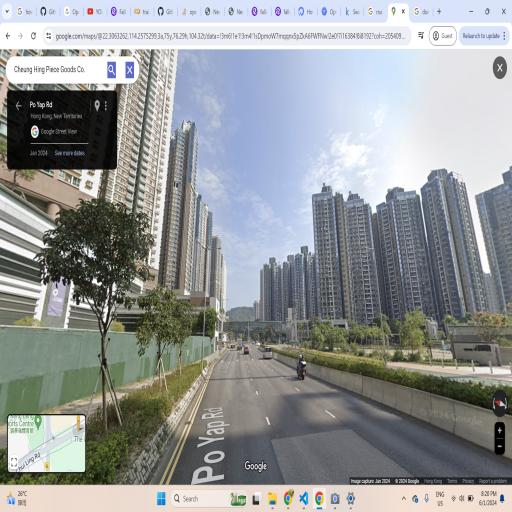Roads: (179, 352, 492, 466)
Trees: (46, 200, 160, 430), (168, 278, 200, 389), (138, 284, 170, 386)
